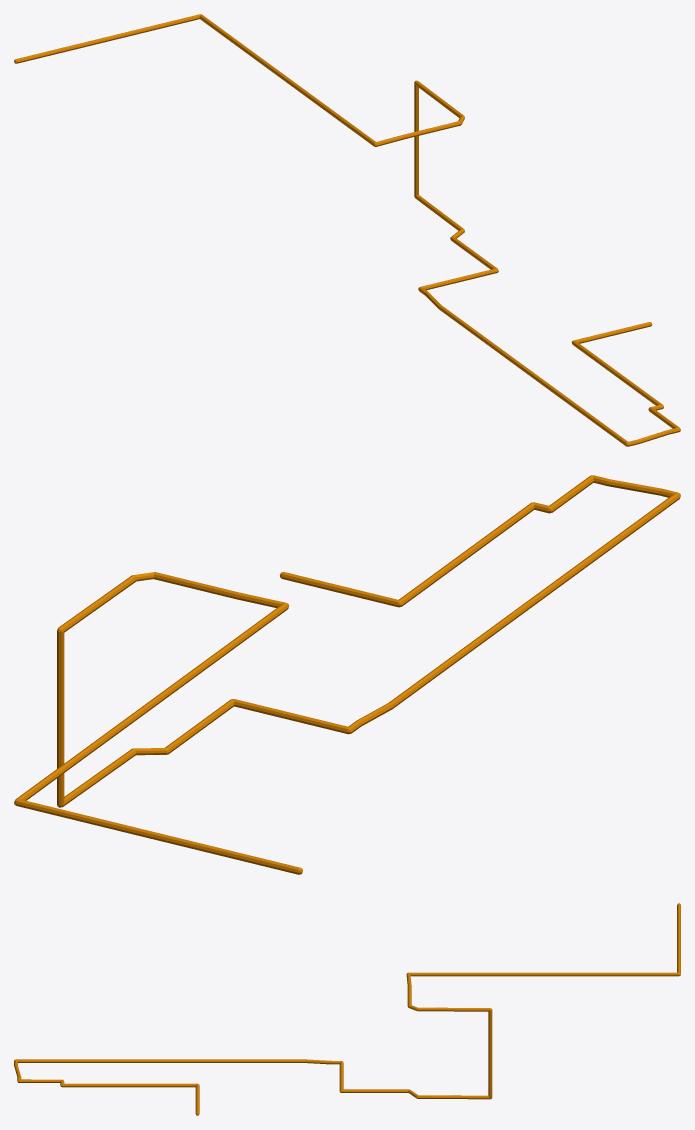
3 views of the same model, one above another, from view 1: azimuth 30°, elevation 25°; view 2: azimuth 150°, elevation 25°; view 3: azimuth 270°, elevation 25° (orthographic). The views are drawn at different scales.
Size of the model in its own units: 1506 by 520 by 3451.
